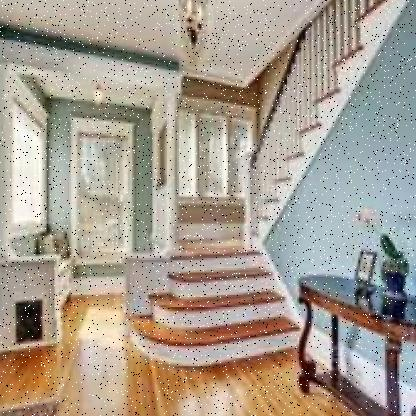stair_up: (140, 252, 304, 352)
